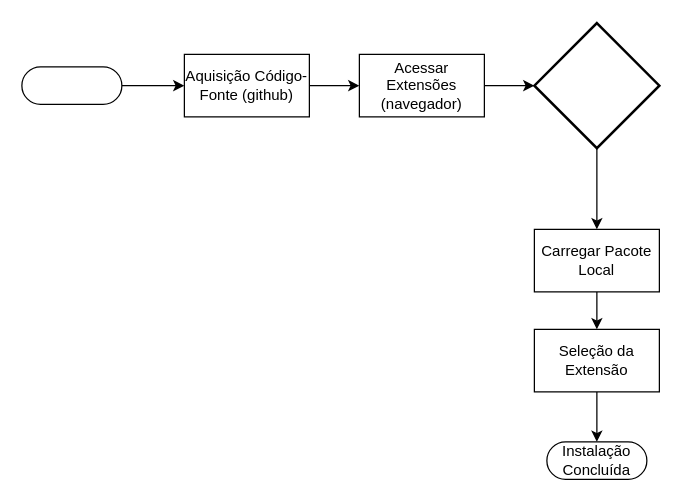
Image size: 683x501. Some labels were removed from this diagram. The shapes that lost their labels are listed below. From the top down, each one's centre as x and y in pixels, then its label:
the point at 71,85: Início
the point at 596,85: Modo Desenvolvedor Habilitado?
